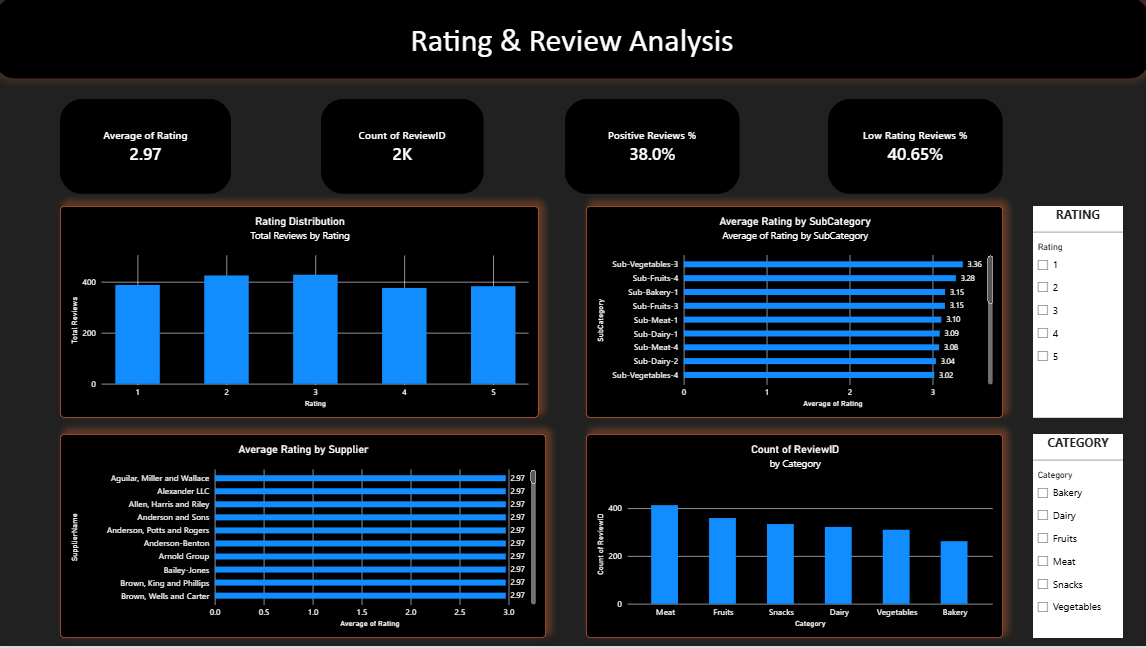

The page's visual inventory and layout, read from the dashboard file:
{"tool":"powerbi","page":{"name":"Page 3","canvas":[1920,1080],"ordinal":2},"visuals":[{"type":"cardVisual","fields":{"Data":["Avg(reviews.Rating)"]},"box":[106.7,168.3,285,158.3],"z":0},{"type":"cardVisual","fields":{"Data":["Count(reviews.ReviewID)"]},"box":[541.7,168.3,271.7,158.3],"z":1000},{"type":"barChart","title":"Average Rating by Supplier","fields":{"Category":["suppliers.SupplierName"],"Y":["Avg(reviews.Rating)"]},"box":[106.7,726.7,810,340],"z":2000},{"type":"lineStackedColumnComboChart","fields":{"Category":["products.Category"],"Y":["Count(reviews.ReviewID)"]},"box":[983.3,726.7,695,340],"z":3000},{"type":"cardVisual","fields":{"Data":["reviews.Low Rating Reviews %"]},"box":[1386.7,168.3,291.7,158.3],"z":4000},{"type":"clusteredBarChart","title":"Average Rating by SubCategory","fields":{"Category":["products.SubCategory"],"Y":["Avg(reviews.Rating)"]},"box":[983.3,346.7,695,353.3],"z":5000},{"type":"clusteredColumnChart","title":"Rating Distribution","fields":{"Category":["reviews.Rating"],"Y":["reviews.Total Reviews"]},"box":[106.7,346.7,798.3,353.3],"z":6000},{"type":"textbox","title":".","box":[0,0,1920,134.5],"z":7000},{"type":"cardVisual","fields":{"Data":["reviews.Positive Reviews %"]},"box":[948.3,168.3,291.7,158.3],"z":8000},{"type":"slicer","title":"RATING","fields":{"Values":["reviews.Rating"]},"box":[1728.3,346.7,150,353.3],"z":8001},{"type":"slicer","title":"CATEGORY","fields":{"Values":["products.Category"]},"box":[1728,727,150,340],"z":8002}]}

Visuals, with their boxes in screenshot pixels (x1, y1, x2, y2), scaled from the page's 1920x1080 canvas onto the 1146x648 screenshot:
cardVisual - Avg(reviews.Rating): 64,101,234,196
cardVisual - Count(reviews.ReviewID): 323,101,485,196
"Average Rating by Supplier" barChart: 64,436,547,640
lineStackedColumnComboChart - products.Category x Count(reviews.ReviewID): 587,436,1002,640
cardVisual - reviews.Low Rating Reviews %: 828,101,1002,196
"Average Rating by SubCategory" clusteredBarChart: 587,208,1002,420
"Rating Distribution" clusteredColumnChart: 64,208,540,420
"." textbox: 0,0,1145,81
cardVisual - reviews.Positive Reviews %: 566,101,740,196
"RATING" slicer: 1032,208,1121,420
"CATEGORY" slicer: 1031,436,1121,640
